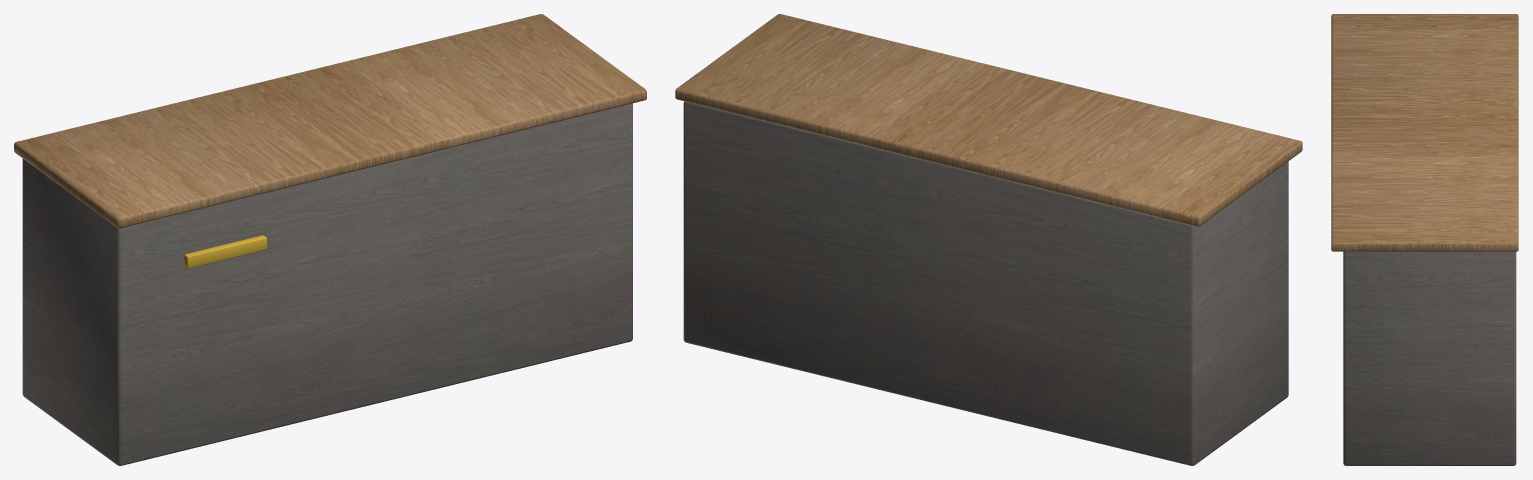
The model's file is library-desk-196fa0b217c6.glb.
The picture shows the model from 3 angles, left to right: view 1: azimuth 30°, elevation 25°; view 2: azimuth 150°, elevation 25°; view 3: azimuth 270°, elevation 25°; orthographic projection. The views are drawn at different scales.
Visible parts, largest first — view 1: Front, Top, Book_Drop_Slot; view 2: Front, Top; view 3: Top, Front.
Boxes of the visible parts, bbox=[...] form: Front: bbox=[22, 103, 632, 465]; Top: bbox=[14, 14, 646, 228]; Book_Drop_Slot: bbox=[184, 235, 266, 268]; Front: bbox=[683, 101, 1288, 465]; Top: bbox=[675, 14, 1302, 226]; Top: bbox=[1331, 14, 1518, 251]; Front: bbox=[1343, 251, 1516, 465].
Bounding box in the file's own units: 2.26 × 1.04 × 0.78.
Materials: 3 (2 with a texture image).
